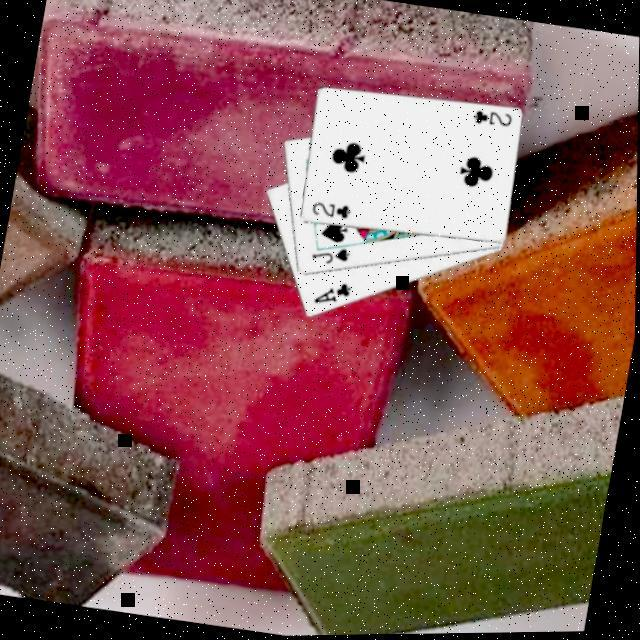2C: (470, 108, 518, 136), (310, 200, 356, 227)
AC: (313, 278, 357, 315)
JS: (309, 242, 356, 274)
